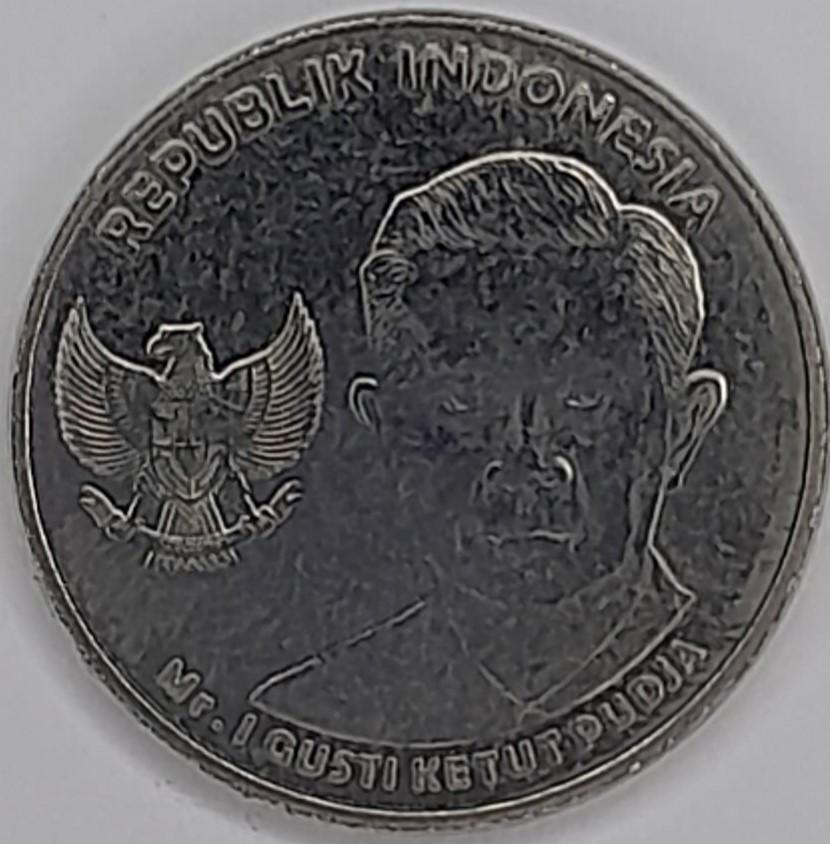coin_1000_e2016: (14, 17, 819, 844)
